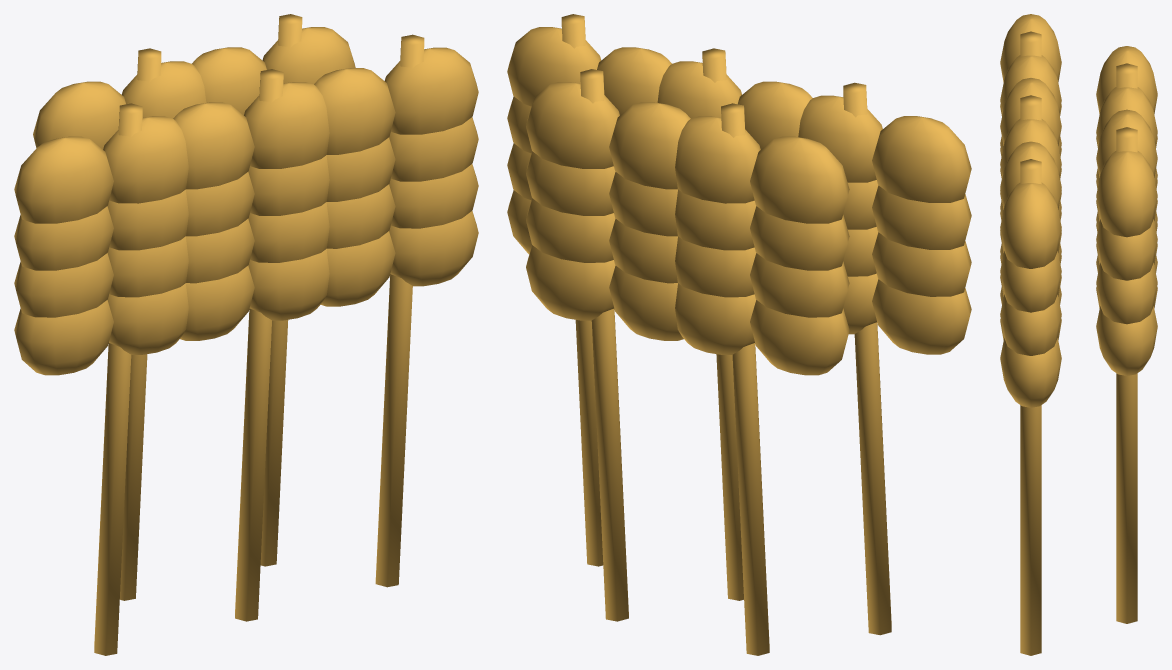
File: goods_wheat.glb
3 renders of one model, left to right at view 1: azimuth 30°, elevation 25°; view 2: azimuth 150°, elevation 25°; view 3: azimuth 270°, elevation 25°, orthographic. The views are drawn at different scales.
Parts seen in each view (by area): view 1: goods_wheat_crafted_mesh; view 2: goods_wheat_crafted_mesh; view 3: goods_wheat_crafted_mesh.
Boxes of the visible parts, x1=… form: goods_wheat_crafted_mesh: x1=14, y1=14, x2=478, y2=655; goods_wheat_crafted_mesh: x1=507, y1=14, x2=971, y2=655; goods_wheat_crafted_mesh: x1=1000, y1=14, x2=1157, y2=655.
Size of the model in its own units: 0.72 by 0.8018 by 0.23.
